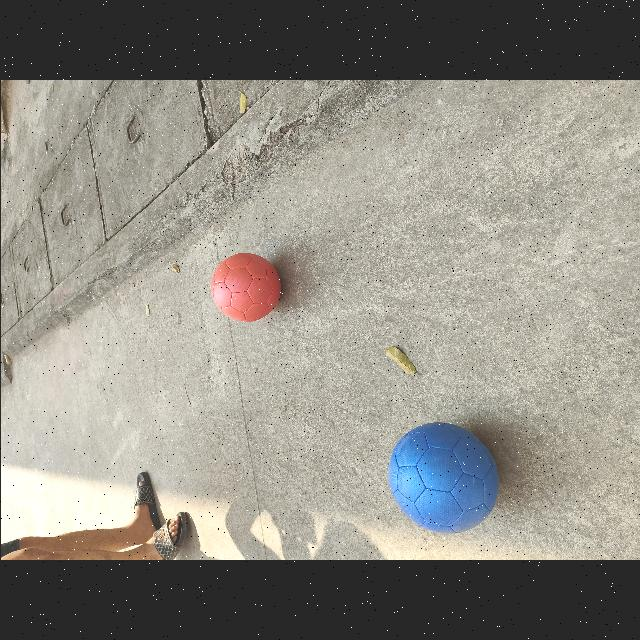B: (387, 422, 501, 534)
R: (210, 252, 284, 323)
